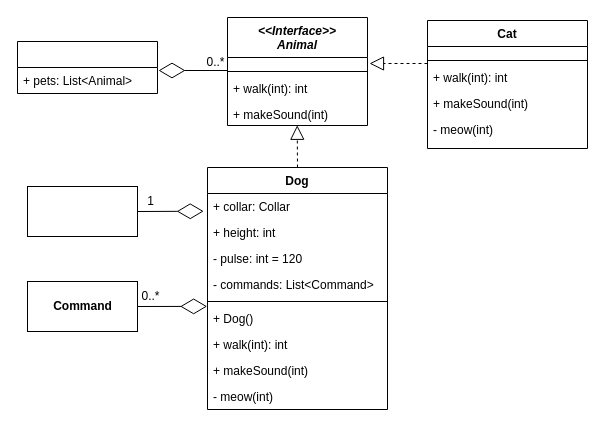
Image size: 605x430. Some labels were removed from this diagram. Each missing label, with the box of its shape:
Collar: (26, 186, 138, 236)
House: (16, 40, 158, 94)
